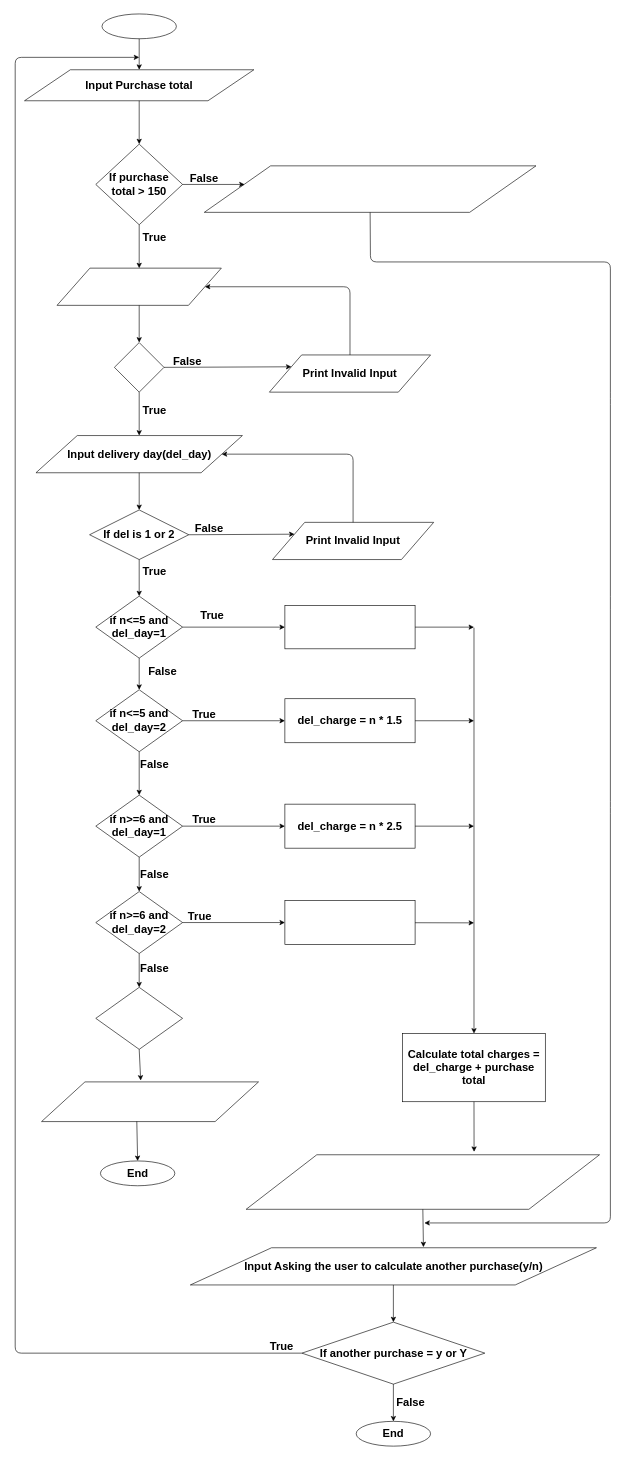
This 626x1460 diagram has some shape labels left out. The shapes that lost their labels are listed below. From the top down, each one's box as (x1, y1, x2, y2) in pixels, then its label:
(101, 13, 176, 39): Start
(204, 165, 536, 212): Print Purchase total must be above $150
(56, 268, 221, 305): Input no of items (n)
(114, 342, 164, 392): If n<=0
(284, 605, 415, 649): del_charge = 8
(284, 900, 415, 945): del_charge = n * 1.2
(95, 987, 183, 1049): else
(41, 1081, 259, 1122): Print Something went wrong
(246, 1154, 600, 1209): Display delivery charges and total service charges
